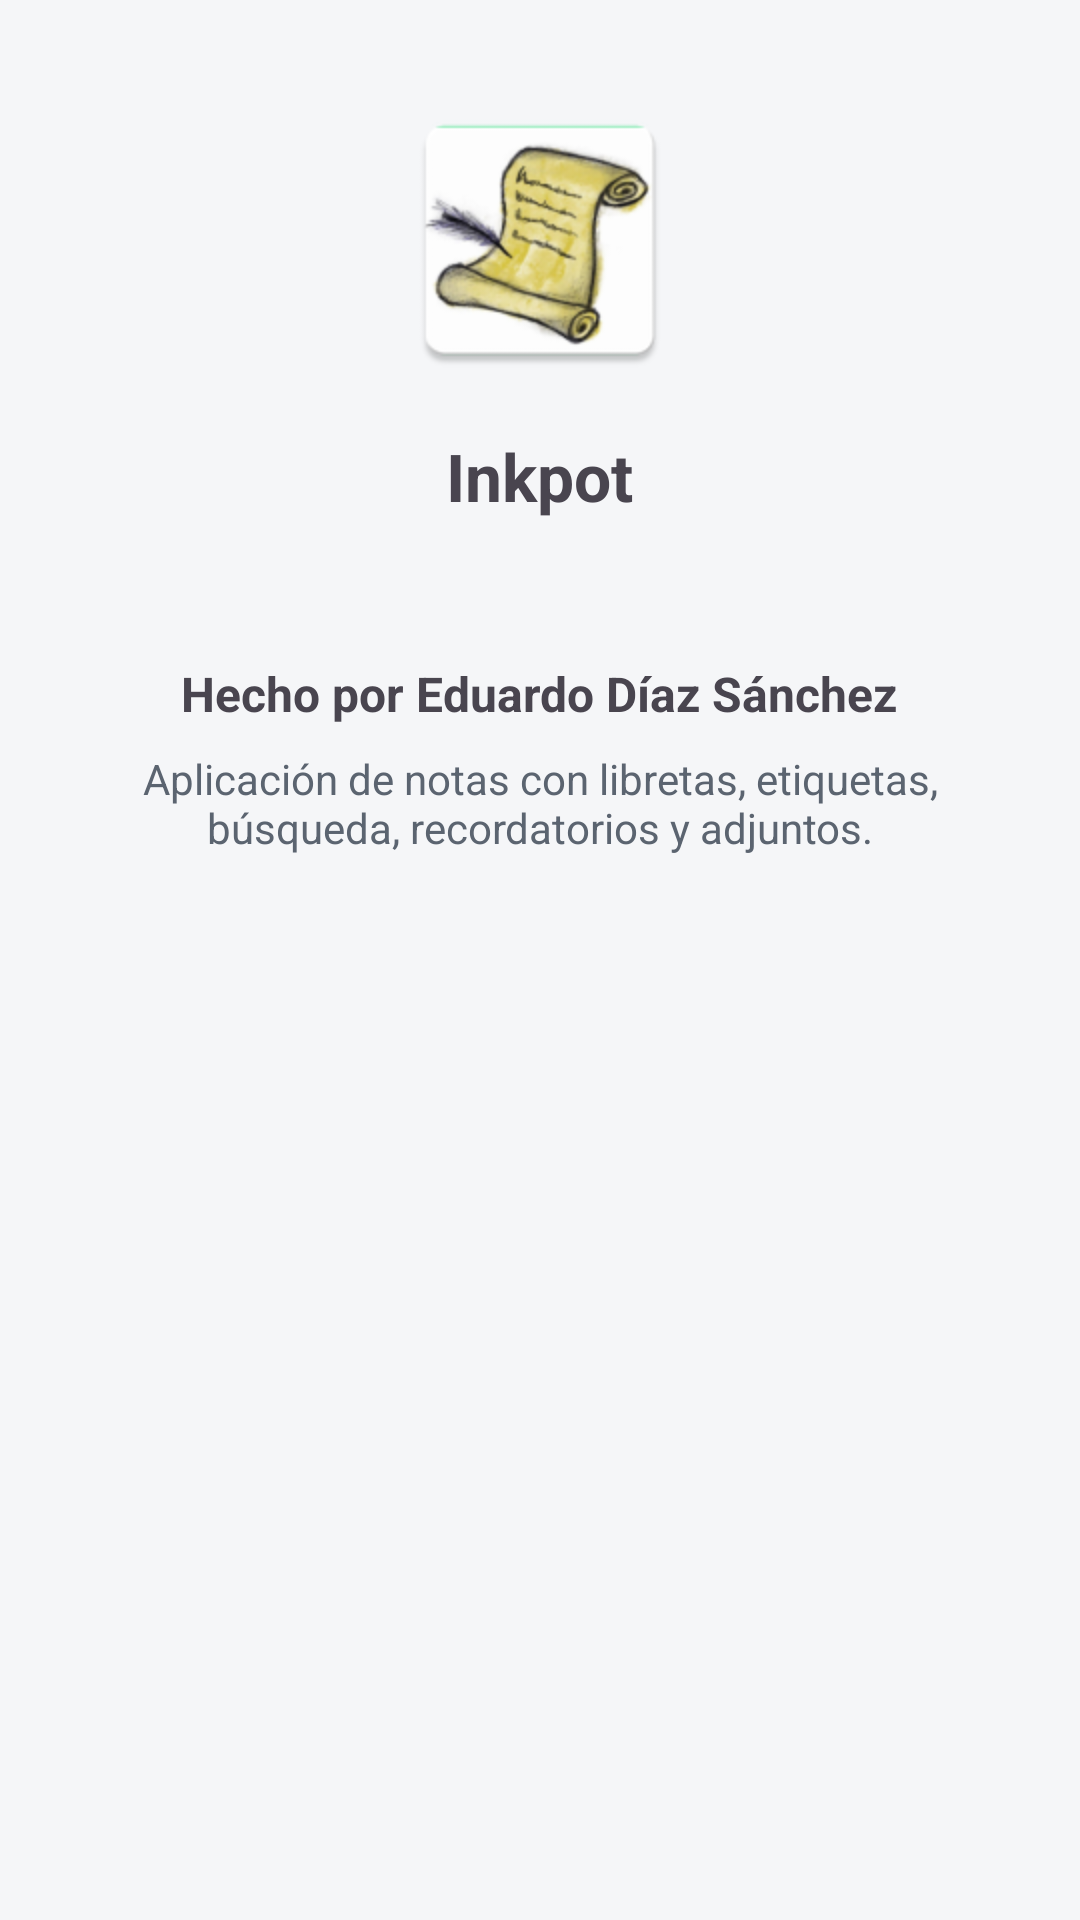

Named icons in this screenshot (1080 x 1920) and their bounding boxes, (x1, y1, x2, y2):
notas: (425, 125, 655, 361)
